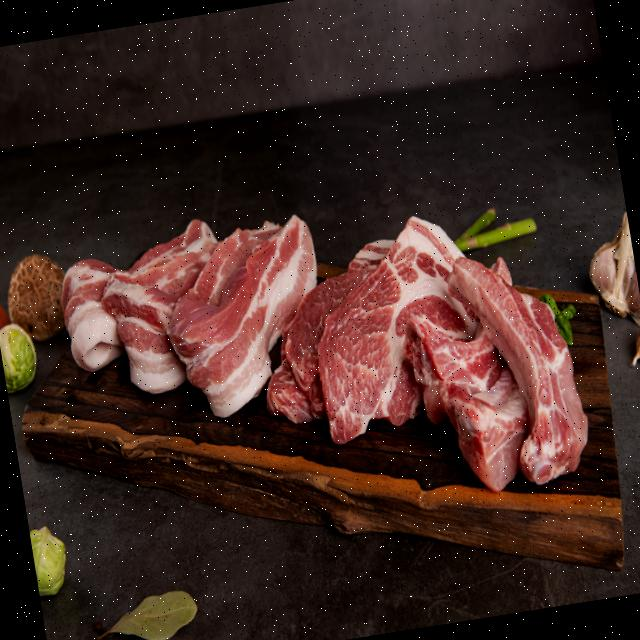meat: (50, 147, 604, 570), (152, 210, 338, 424), (55, 246, 138, 376)
